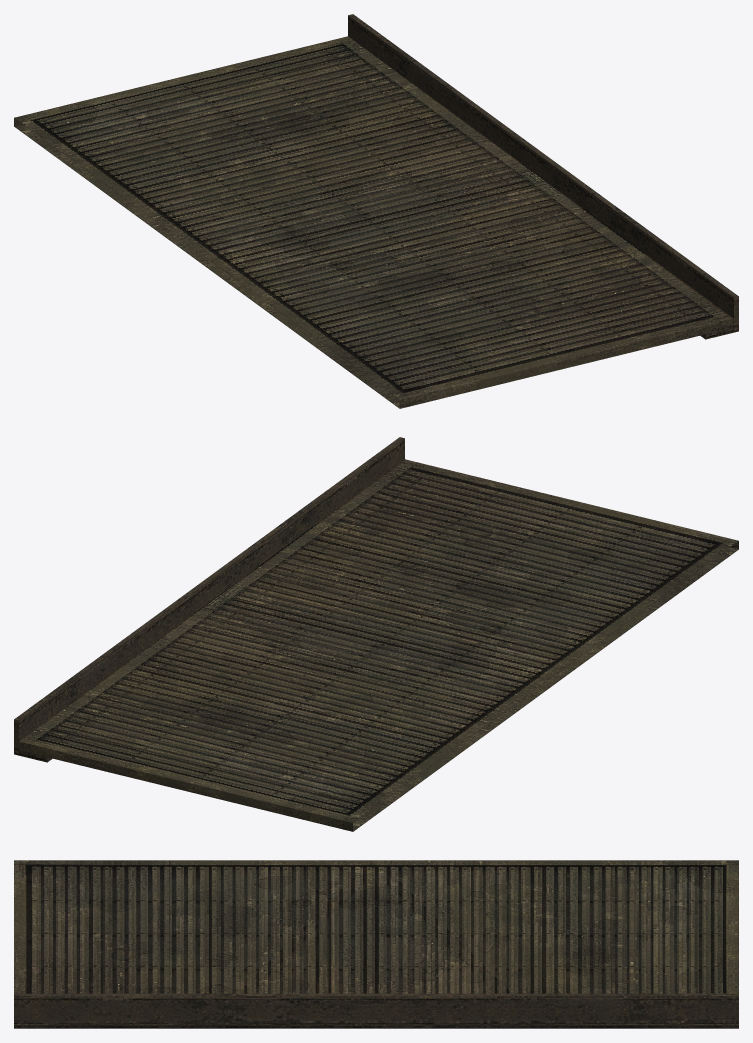
File: platform_cx_1.glb
The picture shows the model from 3 angles, top to bottom: view 1: azimuth 30°, elevation 25°; view 2: azimuth 150°, elevation 25°; view 3: azimuth 270°, elevation 25°; orthographic projection. The views are drawn at different scales.
Parts seen in each view (by area): view 1: platform_cx_1; view 2: platform_cx_1; view 3: platform_cx_1.
Boxes of the visible parts, bbox=[...] form: platform_cx_1: bbox=[14, 14, 738, 408]; platform_cx_1: bbox=[14, 437, 738, 831]; platform_cx_1: bbox=[14, 860, 738, 1028].
Bounding box in the file's own units: 2.03 × 0.2 × 4.
Materials: 2 (2 with a texture image).
